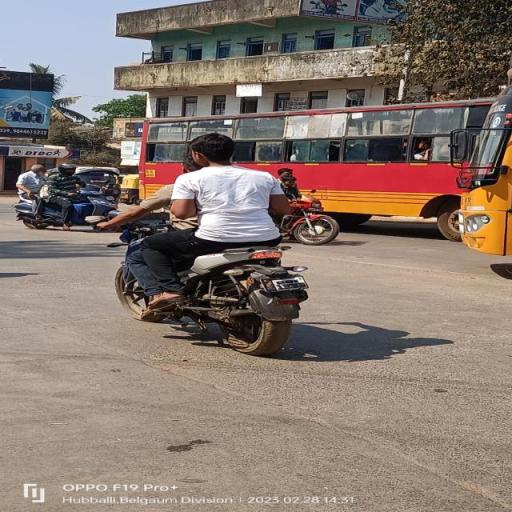bike: (98, 129, 328, 355)
withouthelmet: (192, 133, 232, 165), (181, 156, 199, 170)
